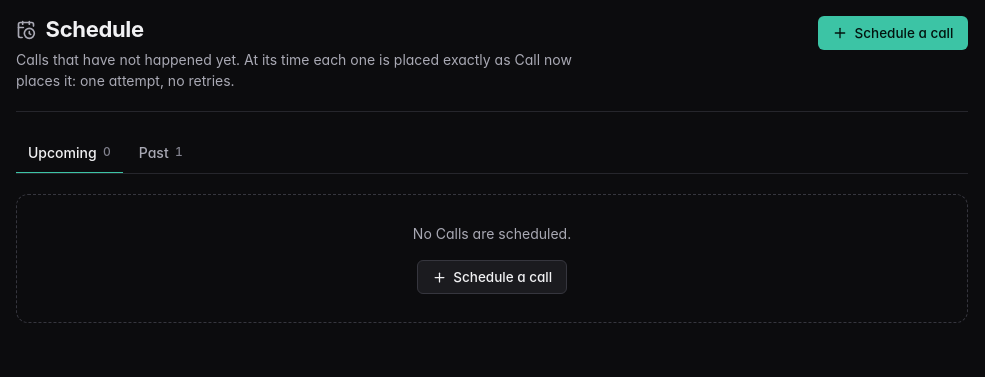
Scenario: Schedule screen › shows a failed Schedule with its honest reason and no cancel button
Expected: the text "No Calls are scheduled." is shown, 413,223 -> 571,244
Click the tab with test id "schedule-tab-past" at (161, 153), box 127,132 -> 195,174
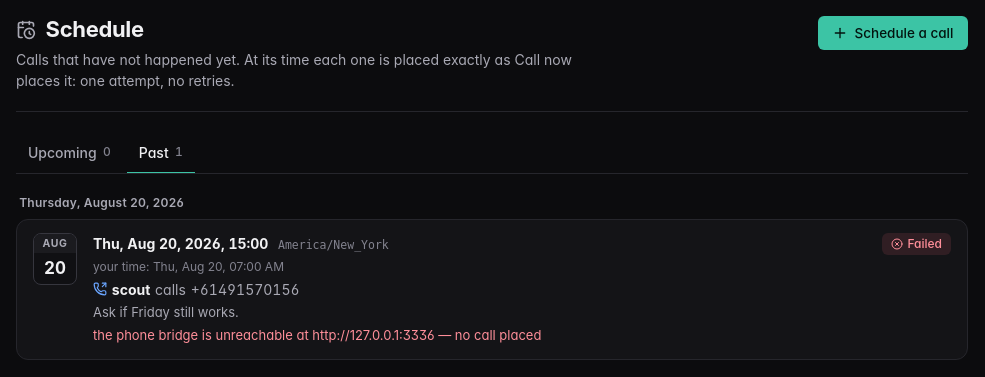
Expected: the element with test id "schedule-status-sch-00000000000f" reads "Failed", 907,236 -> 942,251
Expected: the text with test id "schedule-reason-sch-00000000000f" shows "no call placed", 93,327 -> 541,343
